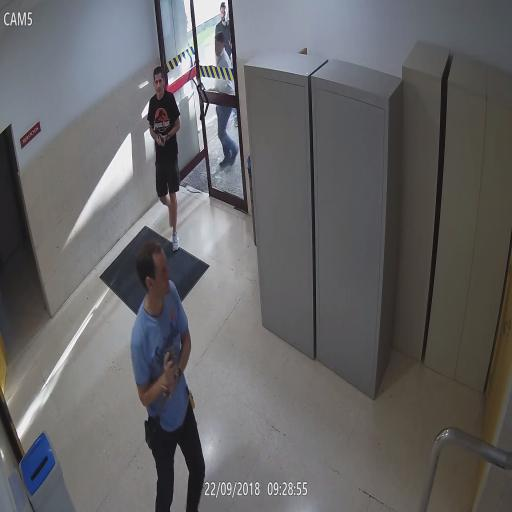Handgun: (160, 342, 180, 379), (156, 131, 166, 148)
